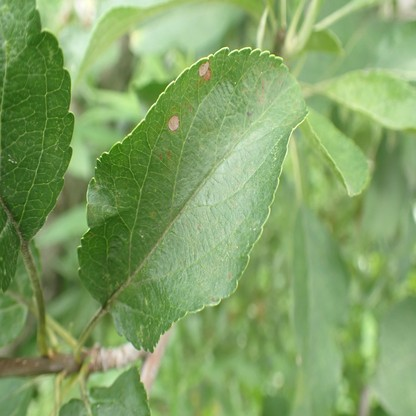frogeye_leaf_spot: (198, 61, 211, 82), (167, 115, 180, 132)
